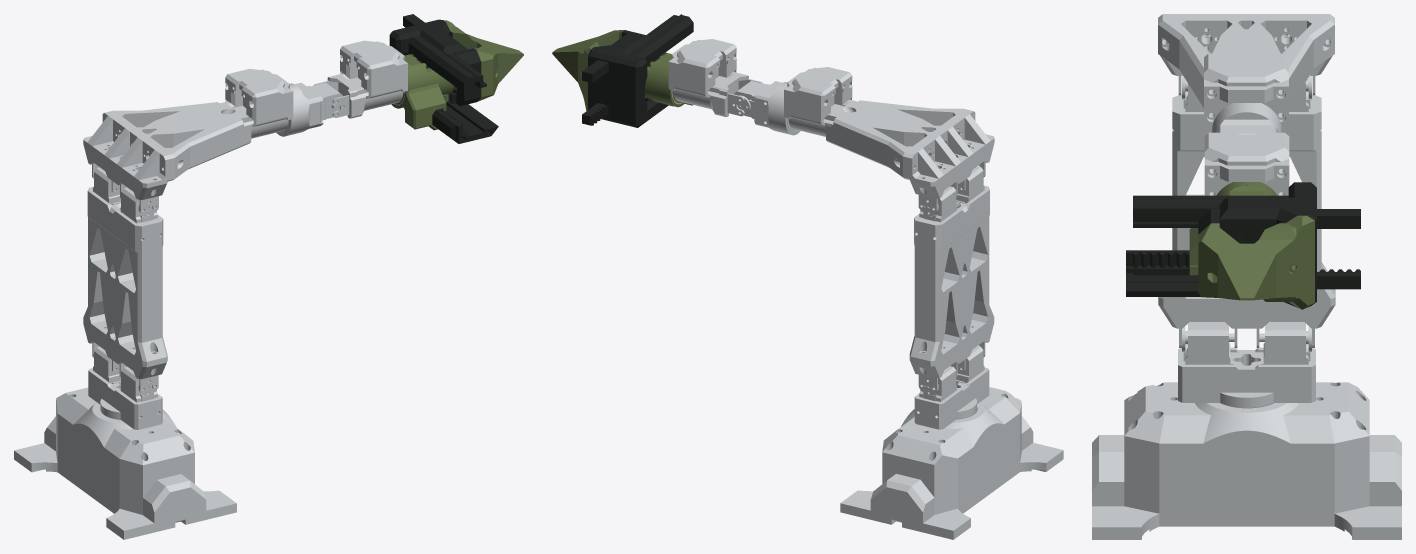
Rendered from gradient0.glb.
3 renders of one model, left to right at view 1: azimuth 30°, elevation 25°; view 2: azimuth 150°, elevation 25°; view 3: azimuth 270°, elevation 25°, orthographic. The views are drawn at different scales.
Parts seen in each view (by area): view 1: base, L3, L2, gripper_primary, L5, L1, gripper_secondary, gripper_base, L4; view 2: base, L3, L2, gripper_primary, L5, L1, L4, gripper_secondary, gripper_base; view 3: base, gripper_primary, L3, L2, L1, gripper_secondary, L5, L4, gripper_base.
Boxes of the visible parts, bbox=[...] form: base: bbox=[14, 387, 236, 539]; L3: bbox=[83, 69, 293, 213]; L2: bbox=[83, 167, 167, 393]; gripper_primary: bbox=[389, 19, 520, 143]; L5: bbox=[313, 40, 407, 118]; L1: bbox=[88, 346, 162, 429]; gripper_secondary: bbox=[403, 14, 523, 105]; gripper_base: bbox=[391, 54, 453, 130]; L4: bbox=[276, 82, 342, 136]; base: bbox=[840, 387, 1063, 539]; L3: bbox=[784, 67, 994, 212]; L2: bbox=[909, 165, 994, 392]; gripper_primary: bbox=[552, 14, 693, 127]; L5: bbox=[668, 39, 763, 116]; L1: bbox=[914, 345, 989, 429]; L4: bbox=[733, 80, 800, 135]; gripper_secondary: bbox=[555, 30, 645, 125]; gripper_base: bbox=[644, 52, 692, 107]; base: bbox=[1092, 382, 1401, 539]; gripper_primary: bbox=[1126, 182, 1316, 309]; L3: bbox=[1158, 14, 1334, 125]; L2: bbox=[1158, 75, 1335, 347]; L1: bbox=[1178, 322, 1315, 407]; gripper_secondary: bbox=[1198, 209, 1360, 300]; L5: bbox=[1204, 132, 1289, 195]; L4: bbox=[1211, 103, 1282, 134]; gripper_base: bbox=[1189, 182, 1277, 275].
Size of the model in its own units: 0.5209 by 0.4114 by 0.2192.
